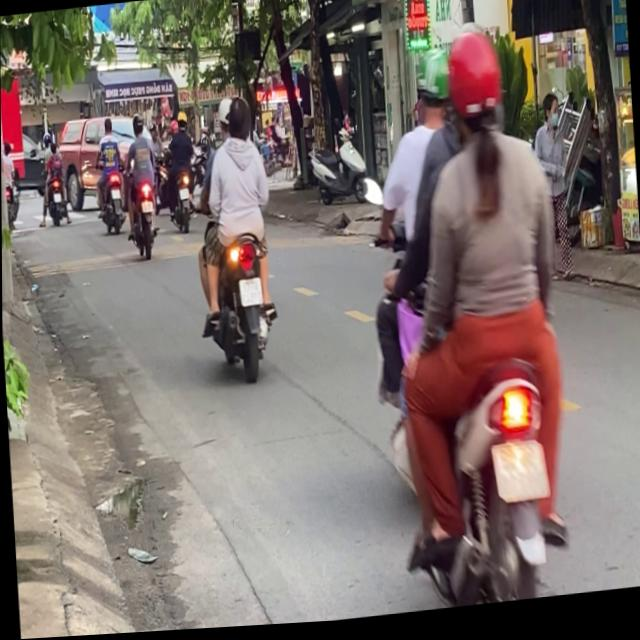helmet: (444, 32, 510, 146), (412, 50, 454, 130)
licenseplate: (354, 27, 587, 620), (187, 91, 285, 387)
motorcyclist: (227, 98, 253, 144), (218, 99, 235, 140)
nohelmet: (492, 443, 550, 509), (239, 280, 262, 309)
